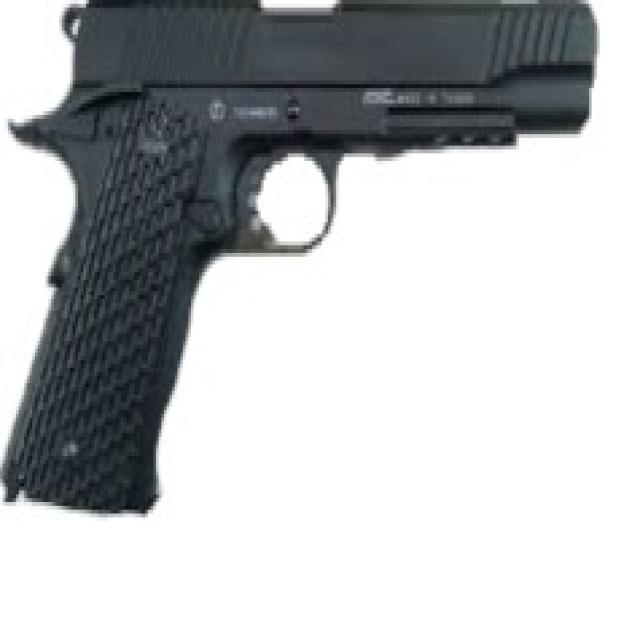pistol: (1, 1, 603, 522)
